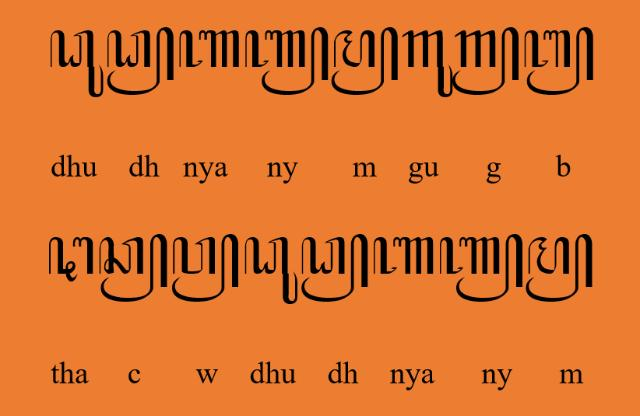-b: (524, 28, 594, 96)
-c: (99, 234, 168, 302)
-dh: (107, 27, 175, 96), (302, 234, 370, 302)
-g: (452, 28, 520, 96)
-m: (526, 233, 594, 303), (331, 27, 399, 96)
-ny: (244, 27, 330, 97), (440, 233, 524, 303)
-w: (172, 234, 240, 302)
dhu: (50, 30, 104, 98), (244, 237, 298, 305)
gu: (401, 30, 454, 98)
ny1: (373, 236, 435, 276), (178, 30, 242, 68)
th: (48, 236, 94, 282)
